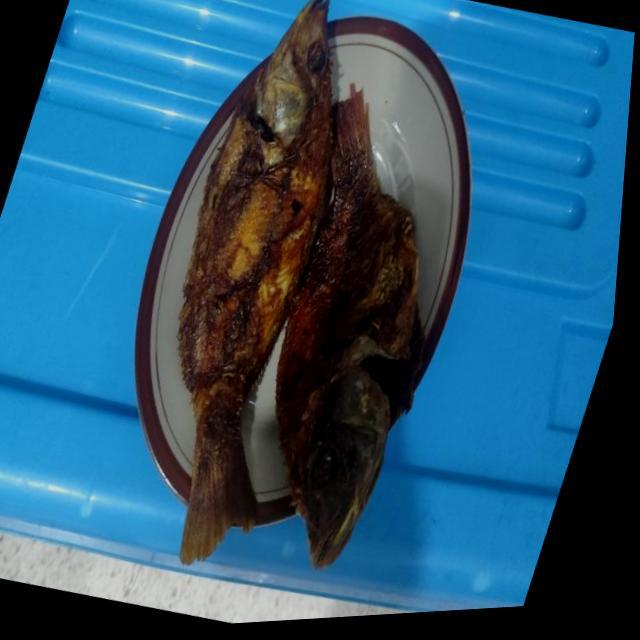ikan_mujair: (178, 0, 332, 564), (275, 83, 425, 568)
